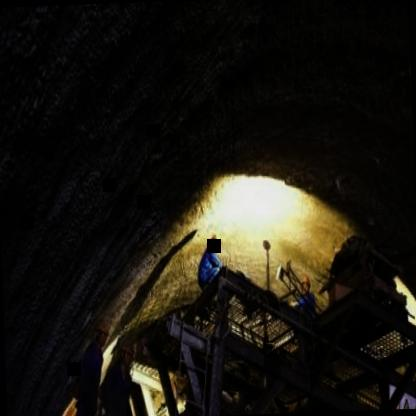helmet: (94, 318, 112, 347), (121, 338, 134, 366), (208, 232, 223, 252), (300, 274, 312, 294)
